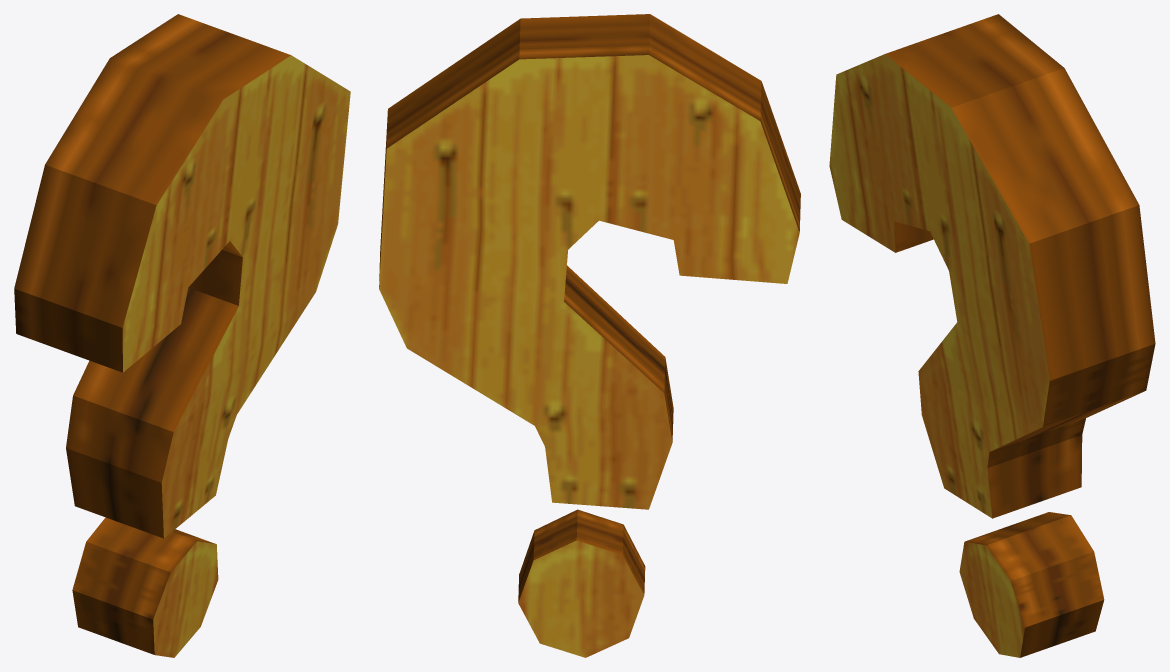
Rendered from question_mark.glb.
3 renders of one model, left to right at view 1: azimuth 30°, elevation 25°; view 2: azimuth 150°, elevation 25°; view 3: azimuth 270°, elevation 25°, orthographic. The views are drawn at different scales.
Parts seen in each view (by area): view 1: Object_2; view 2: Object_2; view 3: Object_2.
Part boxes in pixels (bbox=[...]): Object_2: bbox=[14, 14, 350, 657]; Object_2: bbox=[379, 14, 800, 657]; Object_2: bbox=[829, 14, 1155, 657].
Size of the model in its own units: 3.58 by 5.5 by 2.67.
Materials: 1 (1 with a texture image).
